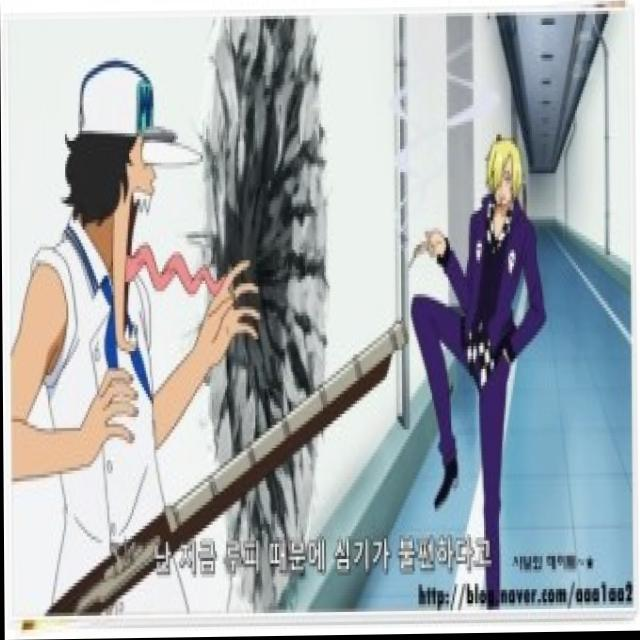Sangdi: (480, 137, 529, 224)
